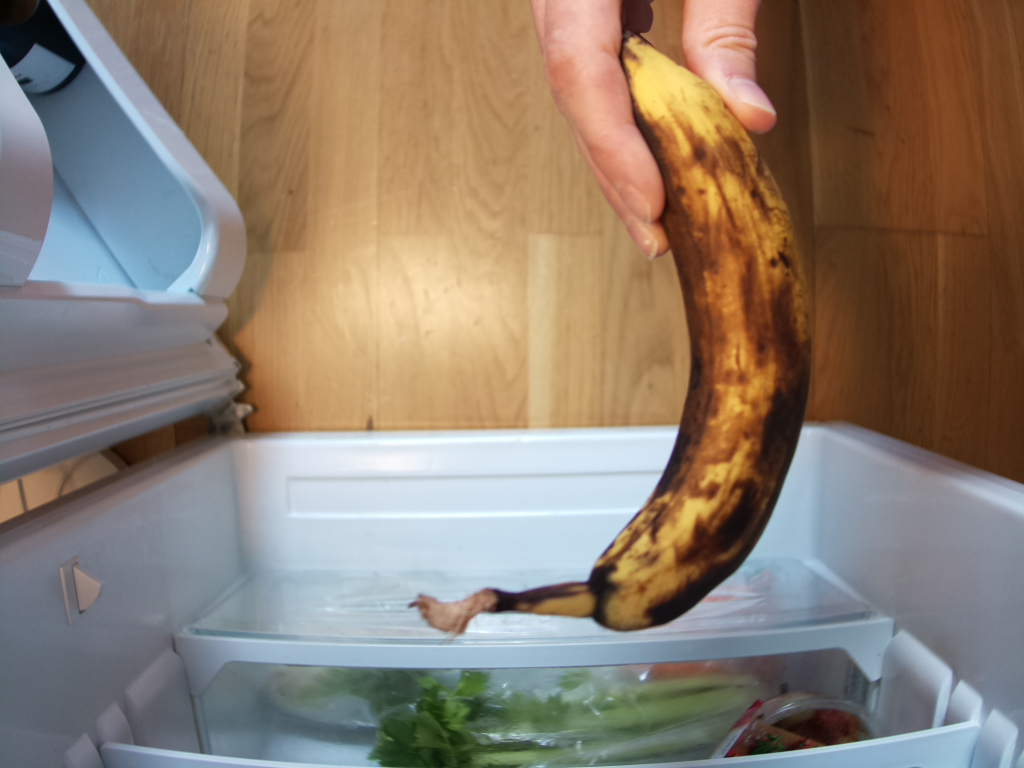banana-overripe: (412, 35, 819, 638)
